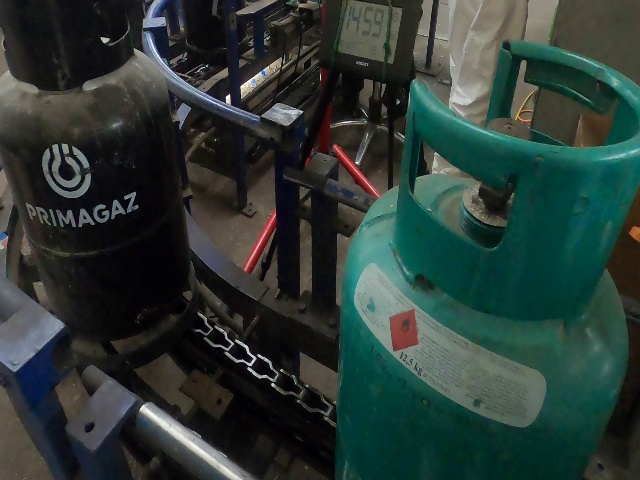gas_bottle: (0, 0, 616, 466)
